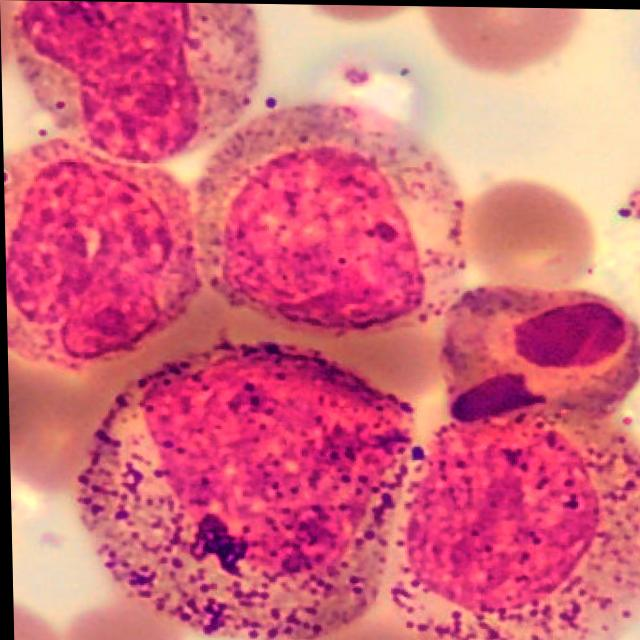Bastonete: (3, 139, 198, 370)
Metamielocito: (13, 0, 256, 163)
Mielocito: (196, 103, 465, 334), (394, 408, 640, 640)
Promielocito: (74, 346, 413, 640)
